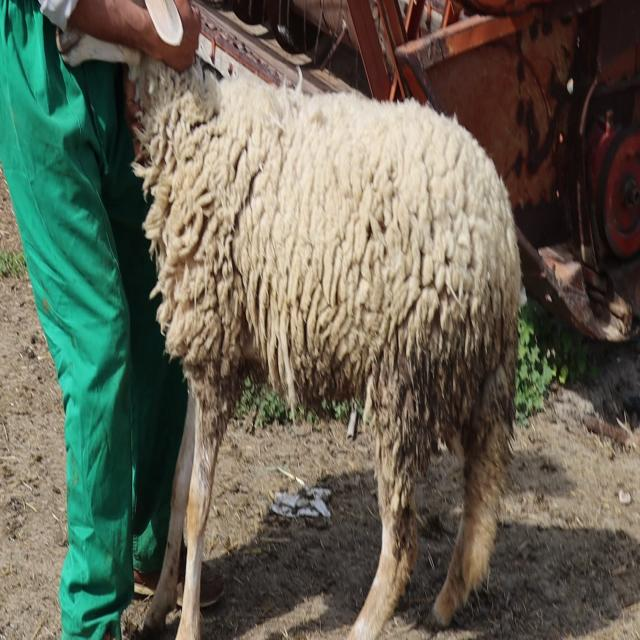Score_3: (58, 32, 521, 639)
